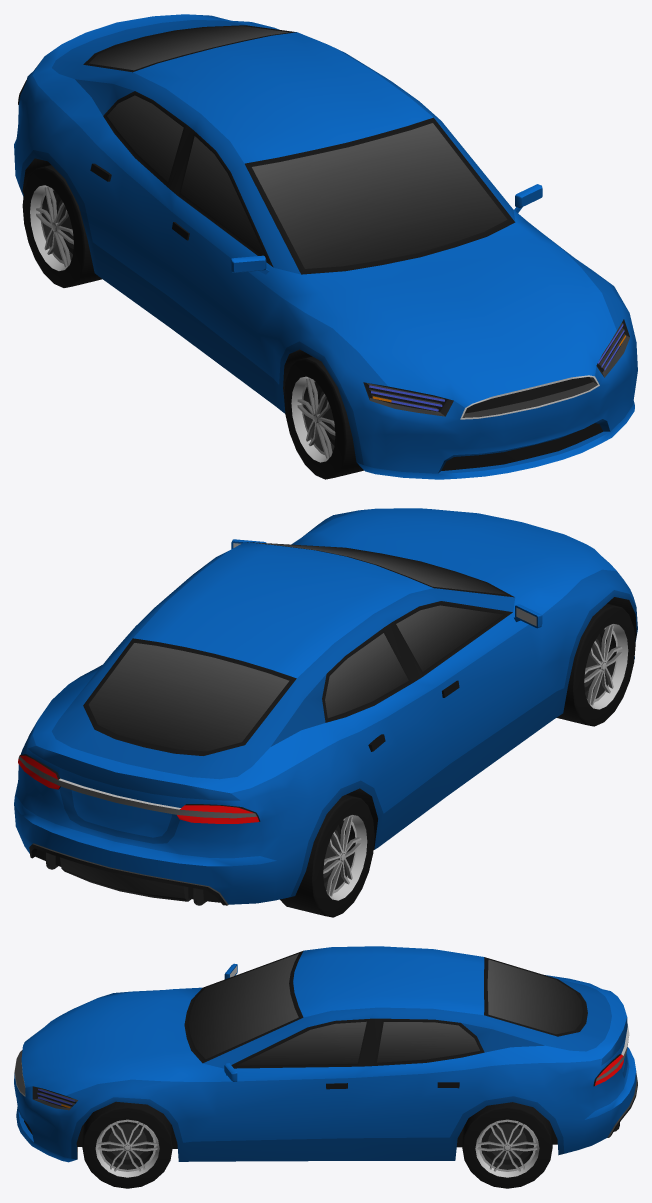
Rendered from Sedan 2.fbx.
3 renders of one model, top to bottom at view 1: azimuth 30°, elevation 25°; view 2: azimuth 150°, elevation 25°; view 3: azimuth 270°, elevation 25°, orthographic. The views are drawn at different scales.
Visible parts, largest first — view 1: Sedan_2_Body, F_R, B_R, Lights; view 2: Sedan_2_Body, B_R, F_R, Lights; view 3: Sedan_2_Body, F_L, B_L, Lights.
Boxes of the visible parts, bbox=[...] form: Sedan_2_Body: bbox=[14, 14, 637, 479]; F_R: bbox=[284, 356, 363, 479]; B_R: bbox=[22, 165, 101, 287]; Lights: bbox=[369, 324, 625, 411]; Sedan_2_Body: bbox=[14, 508, 637, 905]; B_R: bbox=[280, 794, 374, 917]; F_R: bbox=[556, 603, 635, 726]; Lights: bbox=[18, 755, 259, 823]; Sedan_2_Body: bbox=[14, 946, 637, 1162]; F_L: bbox=[82, 1101, 172, 1188]; B_L: bbox=[462, 1102, 552, 1188]; Lights: bbox=[37, 1054, 623, 1108].
Size of the model in its own units: 200 by 139 by 480.
